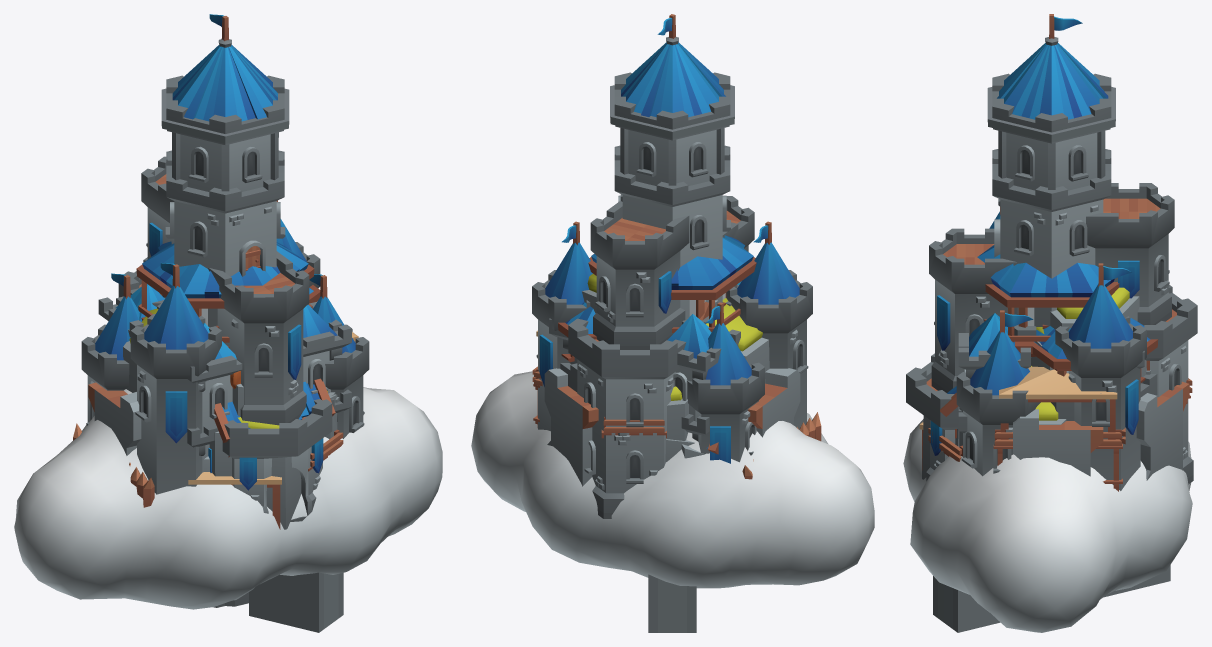
The model's file is vila.glb.
3 renders of one model, left to right at view 1: azimuth 30°, elevation 25°; view 2: azimuth 150°, elevation 25°; view 3: azimuth 270°, elevation 25°, orthographic. The views are drawn at different scales.
Parts seen in each view (by area): view 1: building_castle_blue, cloud_big, building_barracks_blue, building_bridge_A, building_tower_B_top_blue, mountain_C_grass, wall_corner_A_outside, building_scaffolding, building_watermill_blue, fence_wood_straight; view 2: building_castle_blue, cloud_big, wall_corner_A_outside, building_tower_B_top_blue, building_barracks_blue, building_bridge_A, mountain_C_grass, building_scaffolding, building_archeryrange_blue, mountain_B_grass; view 3: building_castle_blue, cloud_big, building_tower_B_top_blue, building_scaffolding, wall_corner_A_outside, wall_straight, building_bridge_A, building_barracks_blue, building_archeryrange_blue, mountain_B_grass, mountain_C_grass, wall_straight_gate.
Boxes of the visible parts, <box> form: building_castle_blue: <box>81,14,369,521</box>; cloud_big: <box>14,387,442,609</box>; building_barracks_blue: <box>98,284,351,472</box>; building_bridge_A: <box>213,572,343,632</box>; building_tower_B_top_blue: <box>136,240,314,348</box>; mountain_C_grass: <box>123,308,337,529</box>; wall_corner_A_outside: <box>88,382,136,455</box>; building_scaffolding: <box>188,332,358,529</box>; building_watermill_blue: <box>214,378,335,457</box>; fence_wood_straight: <box>73,423,154,507</box>; building_castle_blue: <box>532,14,812,518</box>; cloud_big: <box>471,371,874,588</box>; wall_corner_A_outside: <box>544,368,800,486</box>; building_tower_B_top_blue: <box>588,235,756,332</box>; building_barracks_blue: <box>549,281,741,441</box>; building_bridge_A: <box>648,574,696,632</box>; mountain_C_grass: <box>667,298,769,440</box>; building_scaffolding: <box>532,330,666,438</box>; building_archeryrange_blue: <box>558,302,718,454</box>; mountain_B_grass: <box>569,273,694,462</box>; building_castle_blue: <box>906,14,1197,490</box>; cloud_big: <box>903,419,1192,632</box>; building_tower_B_top_blue: <box>977,245,1119,356</box>; building_scaffolding: <box>919,366,1192,491</box>; wall_corner_A_outside: <box>1136,381,1189,480</box>; wall_straight: <box>1013,409,1103,476</box>; building_bridge_A: <box>933,565,1170,632</box>; building_barracks_blue: <box>958,313,1144,432</box>; building_archeryrange_blue: <box>1026,318,1158,420</box>; mountain_B_grass: <box>1031,287,1146,424</box>; mountain_C_grass: <box>922,415,962,479</box>; wall_straight_gate: <box>1013,357,1097,461</box>.
Size of the model in its own units: 3.61 by 4.98 by 2.28.
Materials: 1 (1 with a texture image).
